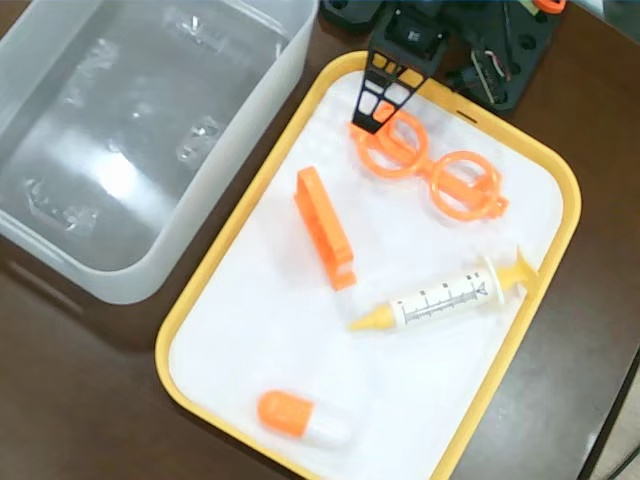pill: (257, 387, 355, 451)
syringe: (353, 240, 544, 338)
